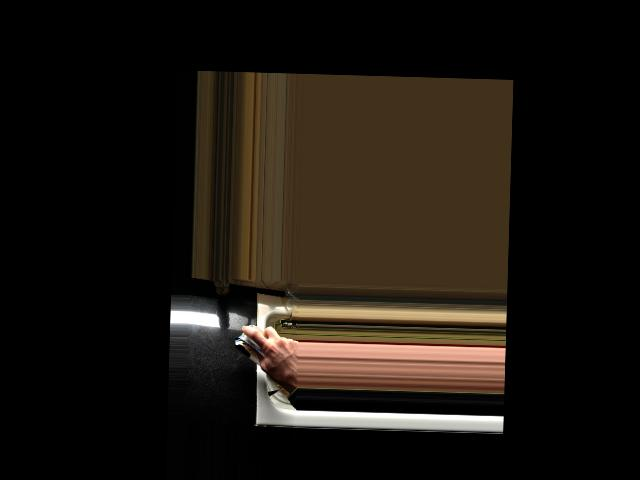cheese: (231, 327, 295, 375)
